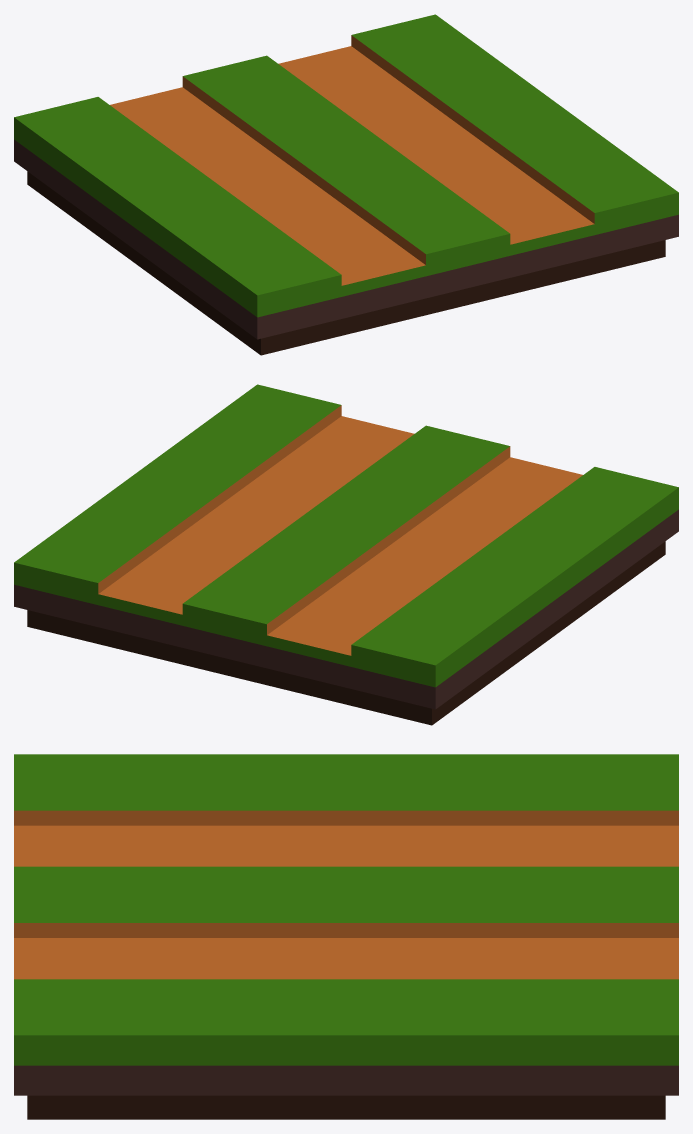
File: Tile_Grass_Road_Straight.fbx
3 renders of one model, top to bottom at view 1: azimuth 30°, elevation 25°; view 2: azimuth 150°, elevation 25°; view 3: azimuth 270°, elevation 25°, orthographic. The views are drawn at different scales.
Visible parts, largest first — view 1: Tile_Grass_Road_Straight; view 2: Tile_Grass_Road_Straight; view 3: Tile_Grass_Road_Straight.
Boxes of the visible parts, left/top/right/bottom form: Tile_Grass_Road_Straight: left=14, top=14, right=678, bottom=355; Tile_Grass_Road_Straight: left=14, top=384, right=678, bottom=725; Tile_Grass_Road_Straight: left=14, top=754, right=678, bottom=1119.
Bounding box in the file's own units: 100 × 14.9 × 100.
